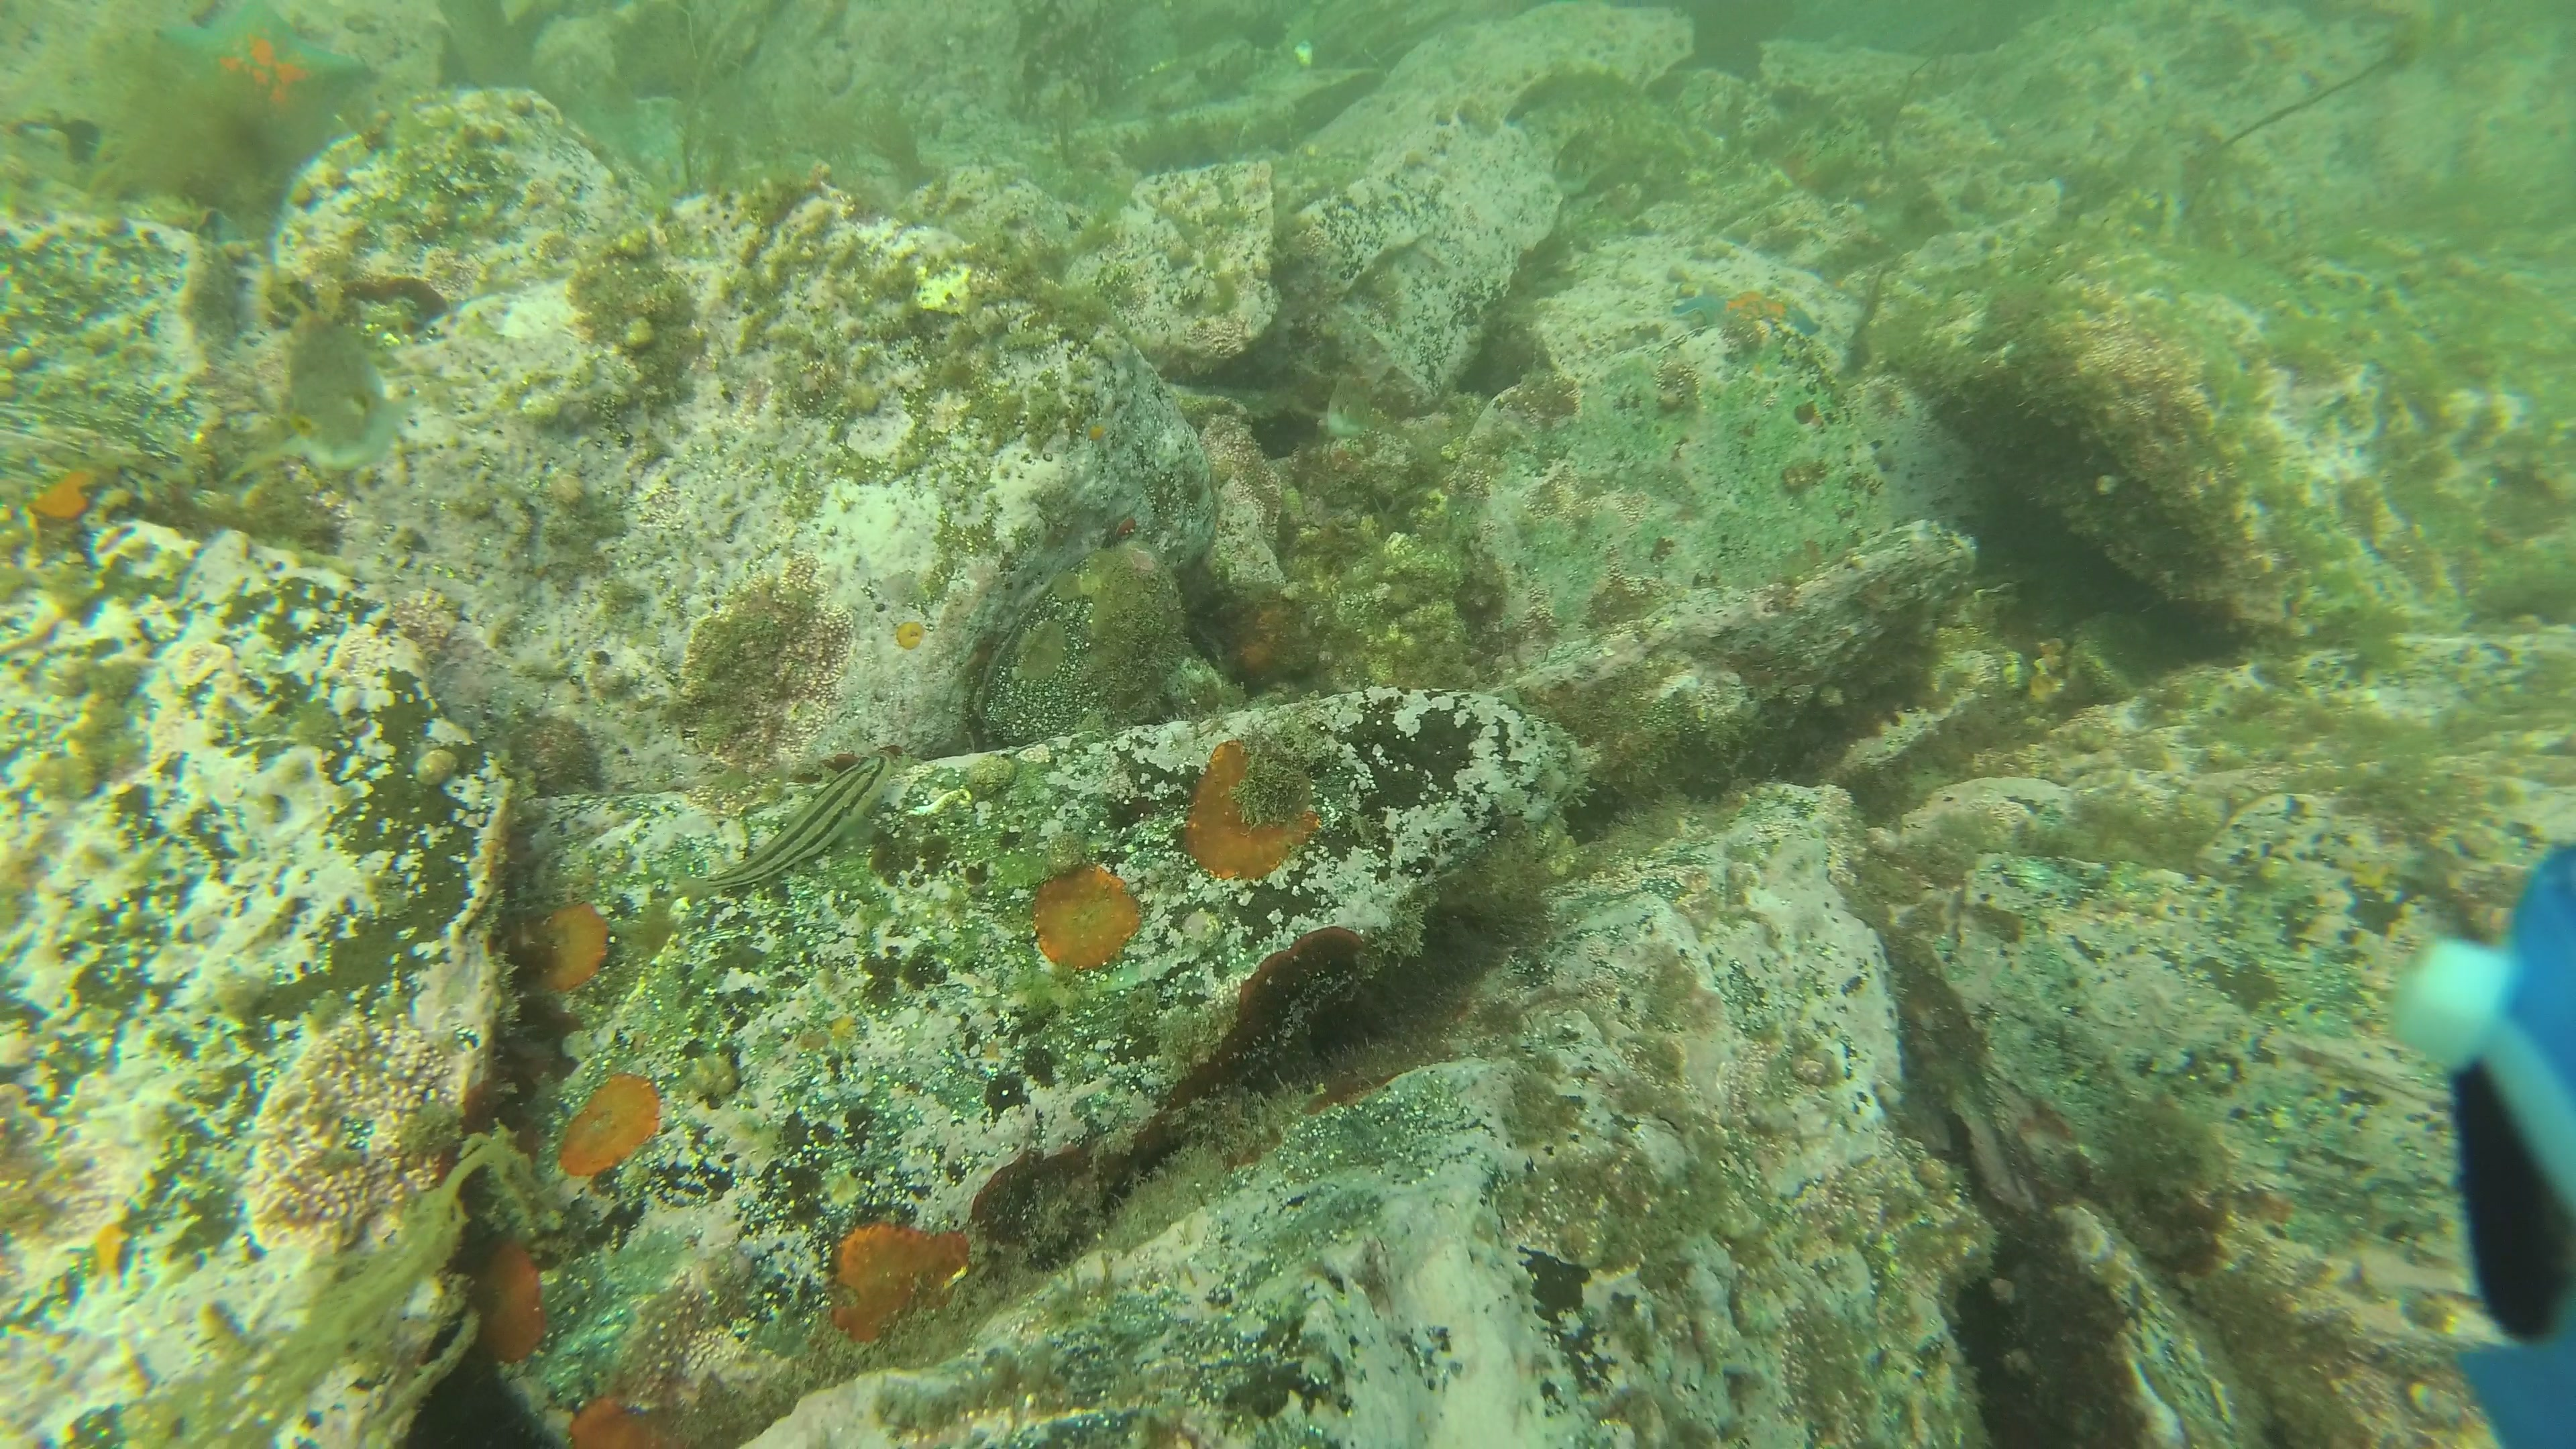holothurian: (2392, 513, 2459, 609), (2330, 474, 2394, 556)
starfish: (143, 4, 377, 172), (1667, 287, 1828, 341)
